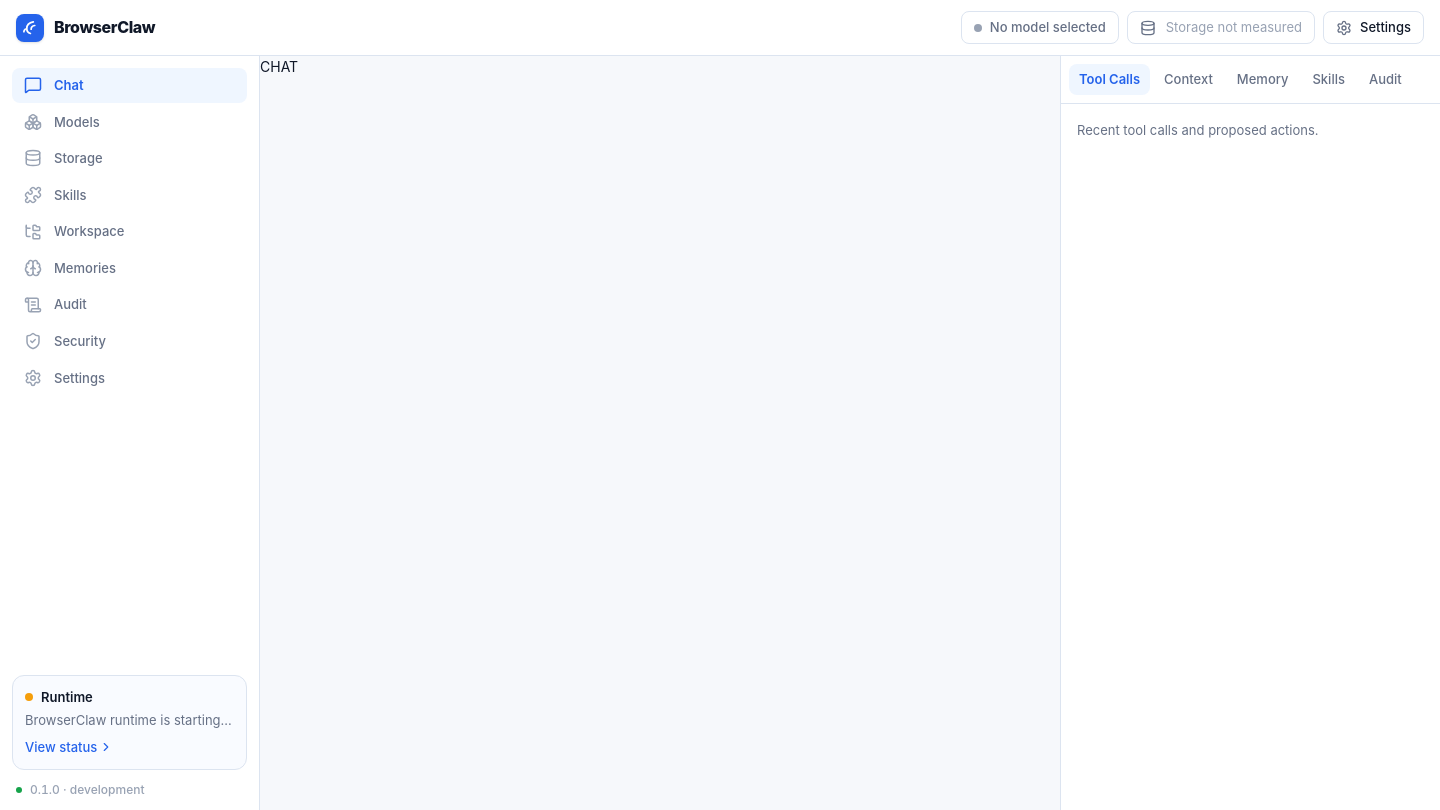
Test: AppLayout › navigates to /models when the top-bar provider/model button is clicked
Expected: the text "CHAT" is shown, 260,58 -> 298,75
What coordinates should you click on to do the following:
click the button titled "Change active model or provider"
I would click on:
 (1040, 28)
Its box is 961,11 -> 1119,44.
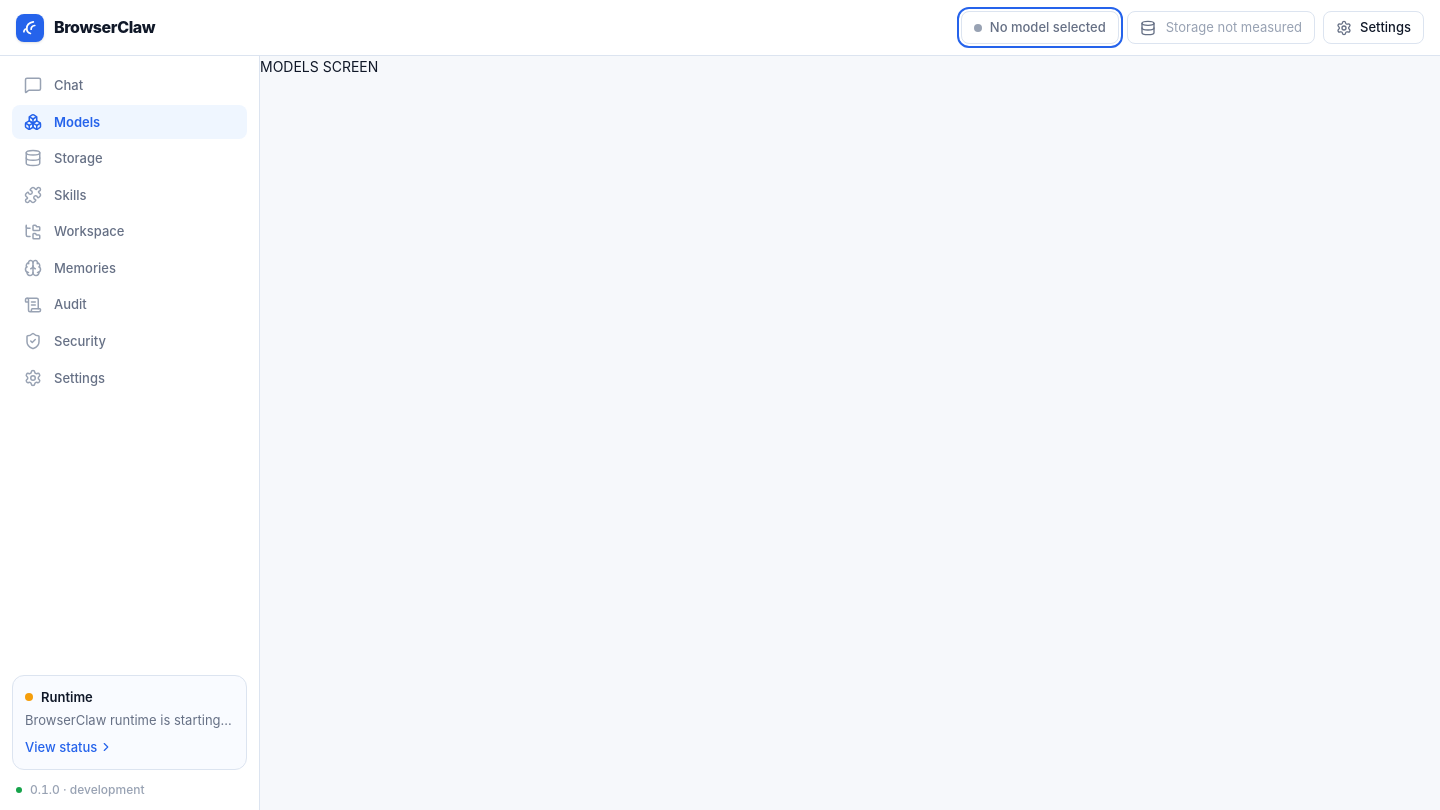
Now the text "MODELS SCREEN" is shown, box 260,58 -> 378,75
